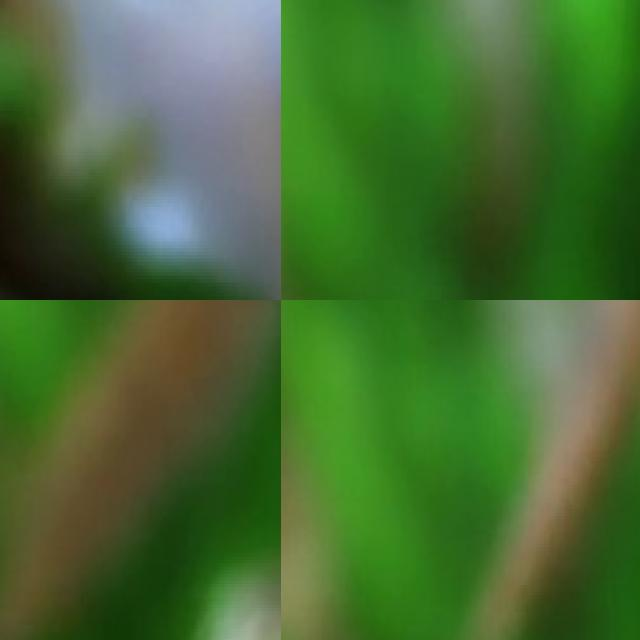fish: (0, 0, 281, 300), (413, 300, 640, 640)
